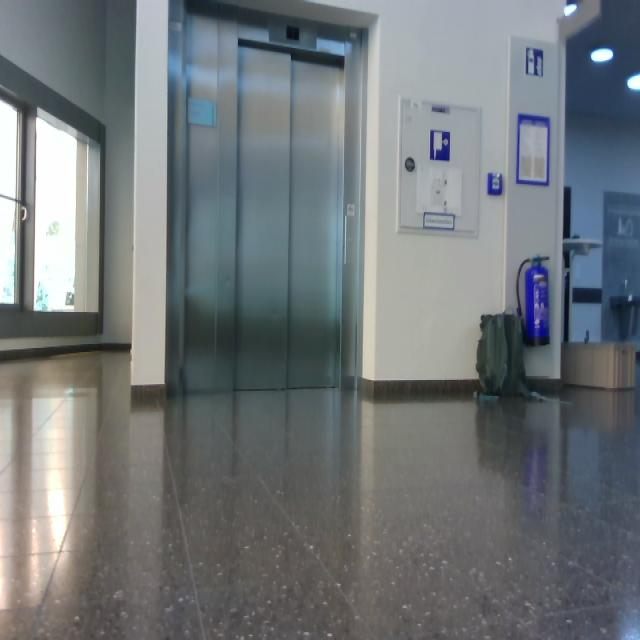door: (167, 4, 366, 396), (236, 40, 345, 392)
fire extinguisher: (517, 255, 551, 347)
light bulb: (590, 46, 614, 64), (14, 201, 28, 224), (627, 73, 640, 92), (564, 1, 578, 17), (21, 205, 28, 222)
tiled floor: (2, 359, 639, 639)
window: (1, 72, 105, 337)
